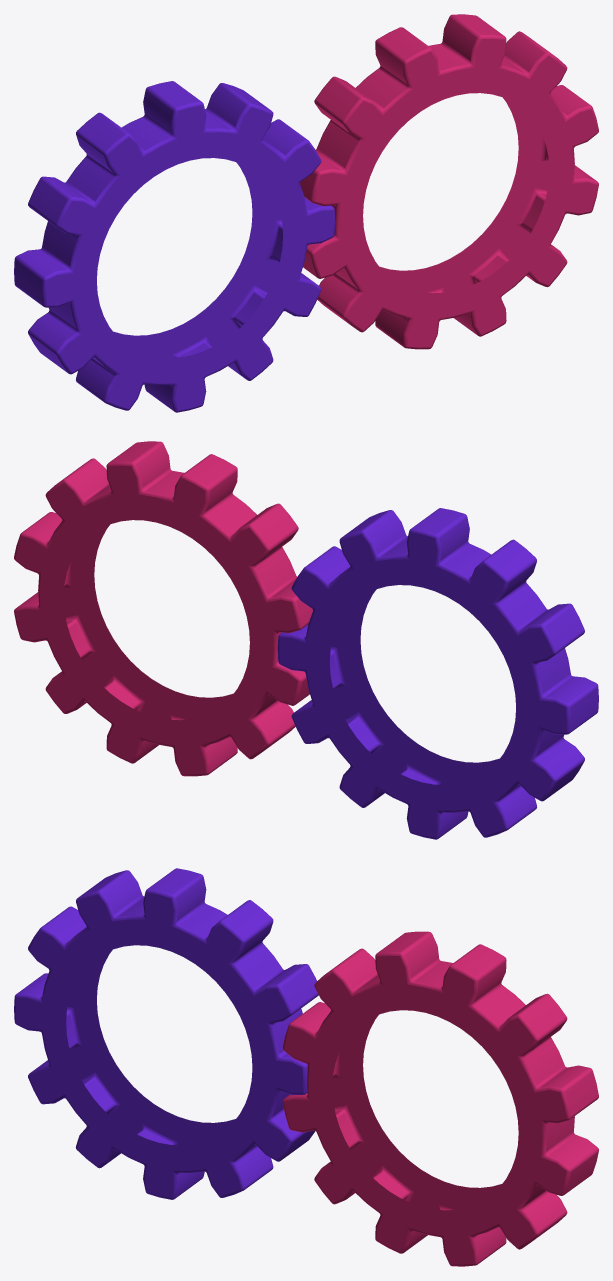
The model's file is gears.glb.
The picture shows the model from 3 angles, top to bottom: view 1: azimuth 30°, elevation 25°; view 2: azimuth 150°, elevation 25°; view 3: azimuth 330°, elevation 25°; orthographic projection.
Visible parts, largest first — view 1: Gear, Gear.001; view 2: Gear, Gear.001; view 3: Gear.001, Gear.
Boxes of the visible parts, bbox=[...] form: Gear: bbox=[14, 81, 335, 412]; Gear.001: bbox=[300, 14, 598, 349]; Gear: bbox=[277, 508, 598, 839]; Gear.001: bbox=[14, 441, 312, 776]; Gear.001: bbox=[282, 931, 598, 1266]; Gear: bbox=[14, 868, 318, 1199].
Bounding box in the file's own units: 4.18 × 2.2 × 0.4.
